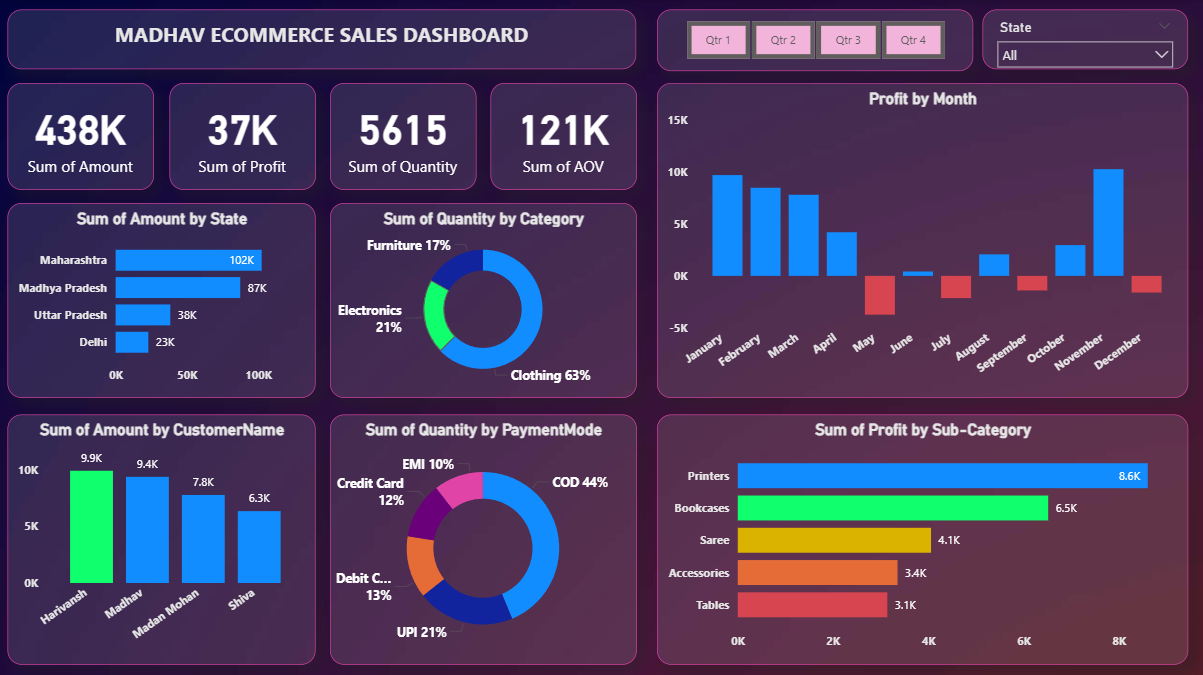

What the dashboard file says about the page in this screenshot:
{"tool":"powerbi","page":{"name":"Madhav Ecommerce Sales Dashboard","canvas":[1280,720],"ordinal":0},"visuals":[{"type":"textbox","box":[11.7,11.7,666.7,63.3],"z":0},{"type":"columnChart","title":"Profit by Month","fields":{"Y":["Sum(Details.Profit)"],"Category":["Orders.Order Date.Variation.Date Hierarchy.Month"]},"box":[699.9,89.1,563.1,334],"z":1000},{"type":"barChart","fields":{"Category":["Details.Sub-Category"],"Y":["Sum(Details.Profit)"]},"box":[700,440,563.3,265],"z":2000},{"type":"donutChart","fields":{"Category":["Details.Category"],"Y":["Sum(Details.Quantity)"]},"box":[353.3,216.7,325,206.7],"z":3000},{"type":"donutChart","fields":{"Category":["Details.PaymentMode"],"Y":["Sum(Details.Quantity)"]},"box":[353.3,440,325,265],"z":4000},{"type":"card","fields":{"Values":["Sum(Details.Amount)"]},"box":[11.7,88.3,155,113.3],"z":5000},{"type":"card","fields":{"Values":["Sum(Details.Quantity)"]},"box":[353.3,88.3,155,113.3],"z":6000},{"type":"card","fields":{"Values":["Sum(Details.Profit)"]},"box":[183.3,88.3,155,113.3],"z":7000},{"type":"card","fields":{"Values":["Sum(Details.AOV)"]},"box":[523.3,88.3,155,113.3],"z":8000},{"type":"barChart","fields":{"Category":["Orders.State"],"Y":["Sum(Details.Amount)"]},"box":[11.7,216.7,326.7,206.7],"z":9000},{"type":"columnChart","fields":{"Category":["Orders.CustomerName"],"Y":["Sum(Details.Amount)"]},"box":[11.7,440,326.7,265],"z":10000},{"type":"slicer","fields":{"Values":["Orders.Order Date.Variation.Date Hierarchy.Quarter"]},"box":[700,11.7,335,65],"z":11000},{"type":"slicer","fields":{"Values":["Orders.State"]},"box":[1045,11.1,217.9,63.6],"z":12000}]}

Visuals, with their boxes in screenshot pixels (x1, y1, x2, y2), scaled from the page's 1280x720 canvas onto the 1203x675 screenshot:
textbox: l=11, t=11, r=638, b=70
"Profit by Month" columnChart: l=658, t=84, r=1187, b=397
barChart - Details.Sub-Category x Sum(Details.Profit): l=658, t=412, r=1187, b=661
donutChart - Details.Category x Sum(Details.Quantity): l=332, t=203, r=637, b=397
donutChart - Details.PaymentMode x Sum(Details.Quantity): l=332, t=412, r=637, b=661
card - Sum(Details.Amount): l=11, t=83, r=157, b=189
card - Sum(Details.Quantity): l=332, t=83, r=478, b=189
card - Sum(Details.Profit): l=172, t=83, r=318, b=189
card - Sum(Details.AOV): l=492, t=83, r=637, b=189
barChart - Orders.State x Sum(Details.Amount): l=11, t=203, r=318, b=397
columnChart - Orders.CustomerName x Sum(Details.Amount): l=11, t=412, r=318, b=661
slicer - Orders.Order Date.Variation.Date Hierarchy.Quarter: l=658, t=11, r=973, b=72
slicer - Orders.State: l=982, t=10, r=1187, b=70
